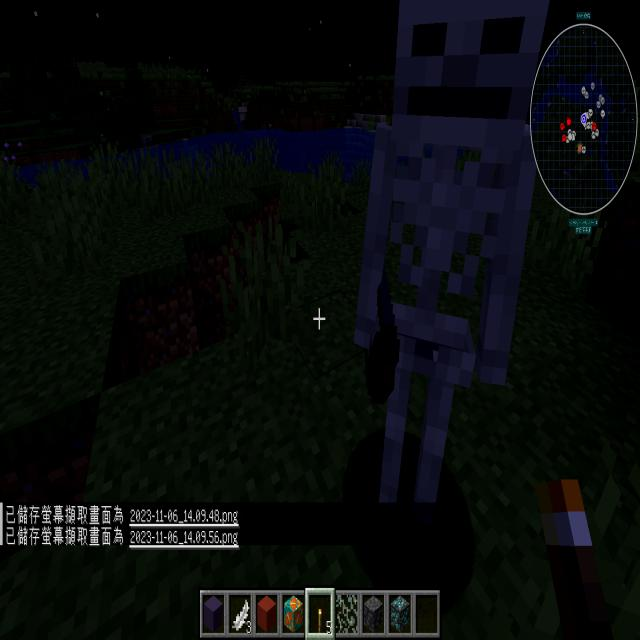chicken: (331, 0, 563, 581)
